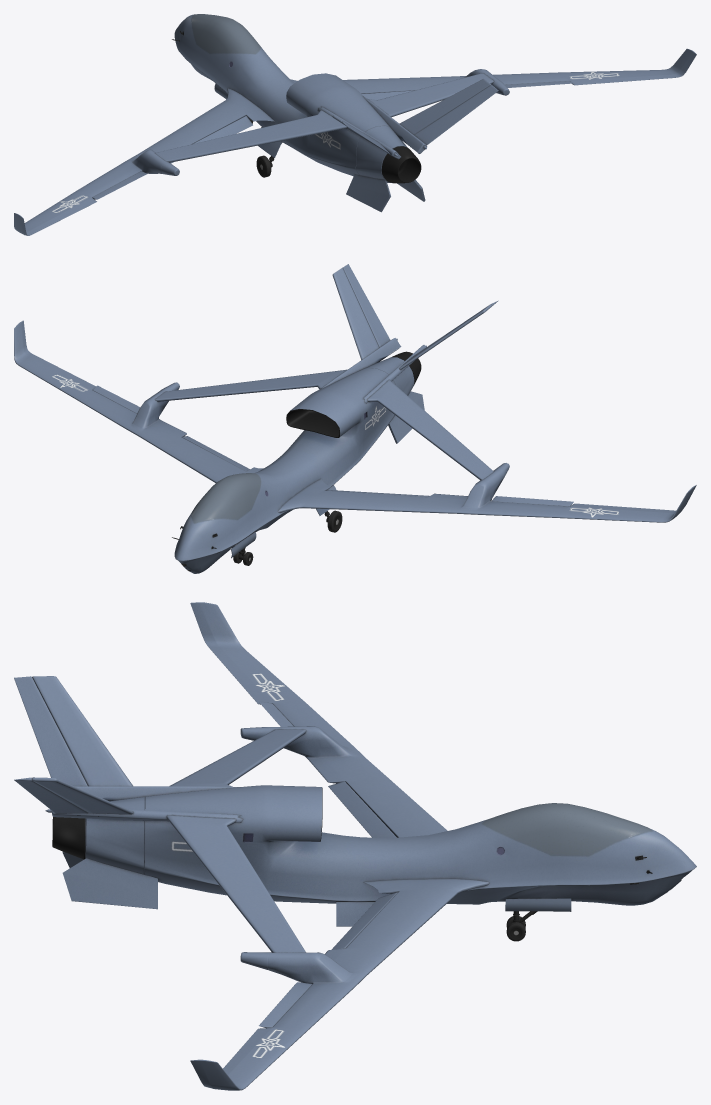
The model's file is A06_GKGSWRJCJ.glb.
The picture shows the model from 3 angles, top to bottom: view 1: azimuth 30°, elevation 25°; view 2: azimuth 150°, elevation 25°; view 3: azimuth 270°, elevation 25°; orthographic projection. The views are drawn at different scales.
Parts seen in each view (by area): view 1: A06ZCJ01; view 2: A06ZCJ01; view 3: A06ZCJ01.
Part boxes in pixels (x1,y1,x2,y2): A06ZCJ01: [14, 14, 696, 235]; A06ZCJ01: [14, 264, 696, 573]; A06ZCJ01: [14, 602, 696, 1090].
Bounding box in the file's own units: 22.63 × 4.84 × 14.25.
5 materials, 5 textured.
